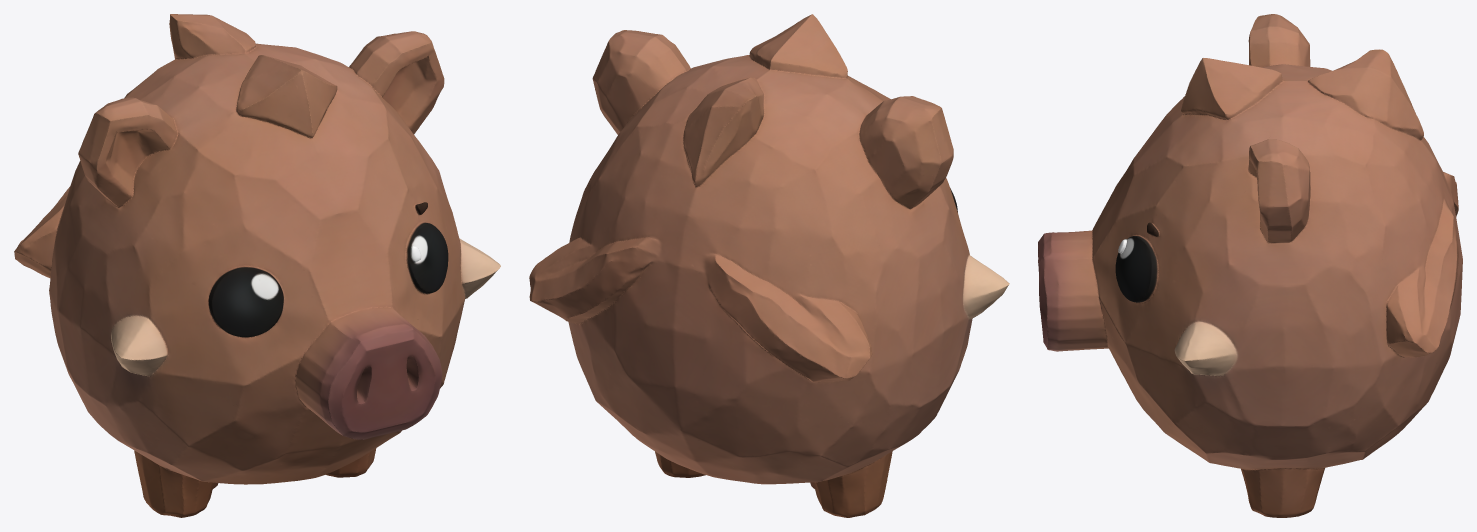
The model's file is MON_BOAR_01.glb.
3 renders of one model, left to right at view 1: azimuth 30°, elevation 25°; view 2: azimuth 150°, elevation 25°; view 3: azimuth 270°, elevation 25°, orthographic. The views are drawn at different scales.
Parts seen in each view (by area): view 1: model; view 2: model; view 3: model.
Boxes of the visible parts, x1=… form: model: x1=14, y1=14, x2=500, y2=517; model: x1=529, y1=14, x2=1009, y2=517; model: x1=1038, y1=14, x2=1462, y2=517.
Bounding box in the file's own units: 1.52 × 1.71 × 1.59.
1 material, 1 textured.
